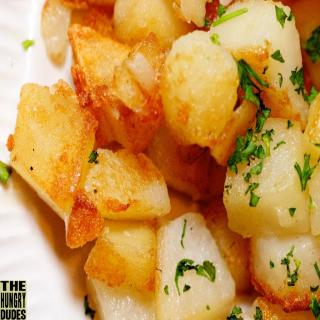Potato: (6, 0, 320, 320)
